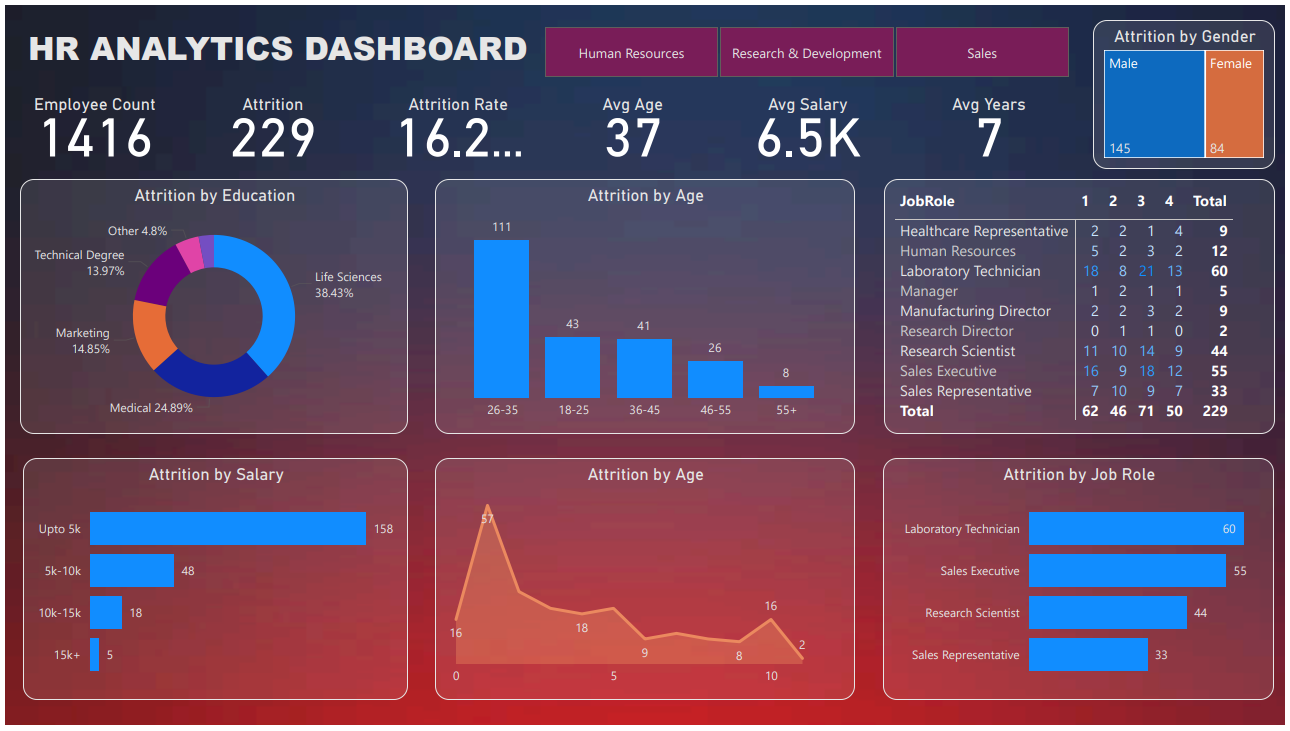

Layout of this report page (visuals, bound fields, positions):
{"tool":"powerbi","page":{"name":"Page 1","canvas":[1280,720],"ordinal":0},"visuals":[{"type":"card","title":"Employee Count","fields":{"Values":["Sum(HR_Analytics.EmployeeCount)"]},"box":[15,88.8,150,75],"z":0},{"type":"card","title":"Avg Age","fields":{"Values":["Avg(HR_Analytics.Age)"]},"box":[552.5,88.8,150,75],"z":1000},{"type":"card","title":"Avg Years","fields":{"Values":["Avg(HR_Analytics.YearsAtCompany)"]},"box":[908.8,88.8,150,75],"z":2000},{"type":"card","title":"Avg Salary","fields":{"Values":["Avg(HR_Analytics.MonthlyIncome)"]},"box":[727.5,88.8,150,75],"z":3000},{"type":"card","title":"Attrition","fields":{"Values":["Sum(HR_Analytics.AttritionCount)"]},"box":[192.5,88.8,150,75],"z":4000},{"type":"card","title":"Attrition Rate","fields":{"Values":["HR_Analytics.AttritionRate"]},"box":[377.5,88.8,151.2,75],"z":5000},{"type":"donutChart","title":"Attrition by Education","fields":{"Y":["Sum(HR_Analytics.AttritionCount)"],"Category":["HR_Analytics.EducationField"]},"box":[15,173.8,387.5,255],"z":6000},{"type":"columnChart","title":"Attrition by Age","fields":{"Y":["Sum(HR_Analytics.AttritionCount)"],"Category":["HR_Analytics.AgeGroup"]},"box":[430,173.8,420,255],"z":7000},{"type":"pivotTable","title":"Attrition by Education","fields":{"Rows":["HR_Analytics.JobRole"],"Columns":["HR_Analytics.JobSatisfaction"],"Values":["Sum(HR_Analytics.AttritionCount)"]},"box":[878.8,173.8,391.2,255],"z":8000},{"type":"barChart","title":"Attrition by Salary","fields":{"Category":["HR_Analytics.SalarySlab"],"Y":["Sum(HR_Analytics.AttritionCount)"]},"box":[17.5,452.5,385,242.5],"z":8001},{"type":"barChart","title":"Attrition by Job Role","fields":{"Category":["HR_Analytics.JobRole"],"Y":["Sum(HR_Analytics.AttritionCount)"]},"box":[877.5,452.5,391.2,242.5],"z":8002},{"type":"areaChart","title":"Attrition by Age","fields":{"Y":["Sum(HR_Analytics.AttritionCount)"],"Category":["HR_Analytics.YearsAtCompany"]},"box":[430,452.5,420,242.5],"z":8003},{"type":"treemap","title":"Attrition by Gender","fields":{"Group":["HR_Analytics.Gender"],"Values":["Sum(HR_Analytics.AttritionCount)"]},"box":[1087.5,15,182.5,148.8],"z":8004},{"type":"slicer","fields":{"Values":["HR_Analytics.Department"]},"box":[513.8,15,573.8,63.8],"z":8005},{"type":"textbox","box":[17.5,15,568.8,63.8],"z":8006}]}

Visuals, with their boxes in screenshot pixels (x1, y1, x2, y2), scaled from the page's 1280x720 canvas onto the 1290x731 screenshot:
"Employee Count" card: (15, 90, 166, 166)
"Avg Age" card: (557, 90, 708, 166)
"Avg Years" card: (916, 90, 1067, 166)
"Avg Salary" card: (733, 90, 884, 166)
"Attrition" card: (194, 90, 345, 166)
"Attrition Rate" card: (380, 90, 533, 166)
"Attrition by Education" donutChart: (15, 176, 406, 435)
"Attrition by Age" columnChart: (433, 176, 857, 435)
"Attrition by Education" pivotTable: (886, 176, 1280, 435)
"Attrition by Salary" barChart: (18, 459, 406, 706)
"Attrition by Job Role" barChart: (884, 459, 1279, 706)
"Attrition by Age" areaChart: (433, 459, 857, 706)
"Attrition by Gender" treemap: (1096, 15, 1280, 166)
slicer - HR_Analytics.Department: (518, 15, 1096, 80)
textbox: (18, 15, 591, 80)
